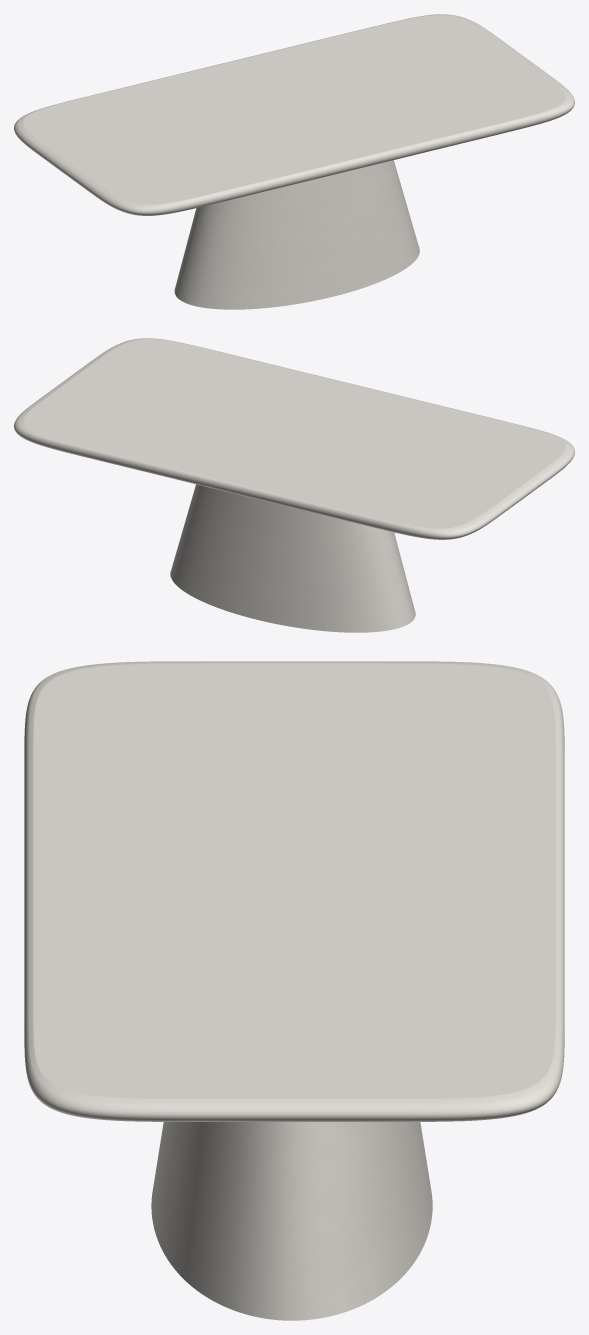
File: pearlwhite_softrecta_round_eqone.glb
3 renders of one model, top to bottom at view 1: azimuth 30°, elevation 25°; view 2: azimuth 150°, elevation 25°; view 3: azimuth 270°, elevation 25°, orthographic. The views are drawn at different scales.
Parts seen in each view (by area): view 1: round_softrecta, eqone; view 2: round_softrecta, eqone; view 3: round_softrecta, eqone.
Part boxes in pixels (x1,y1,x2,y2): round_softrecta: (14,14,574,215); eqone: (174,160,419,309); round_softrecta: (14,338,574,539); eqone: (170,484,415,632); round_softrecta: (24,661,564,1121); eqone: (151,1122,432,1320).
Bounding box in the file's own units: 7.5 × 2.5 × 3.8.
1 material, 1 textured.
